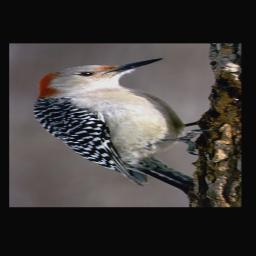Woodpecker: (32, 58, 211, 187)
